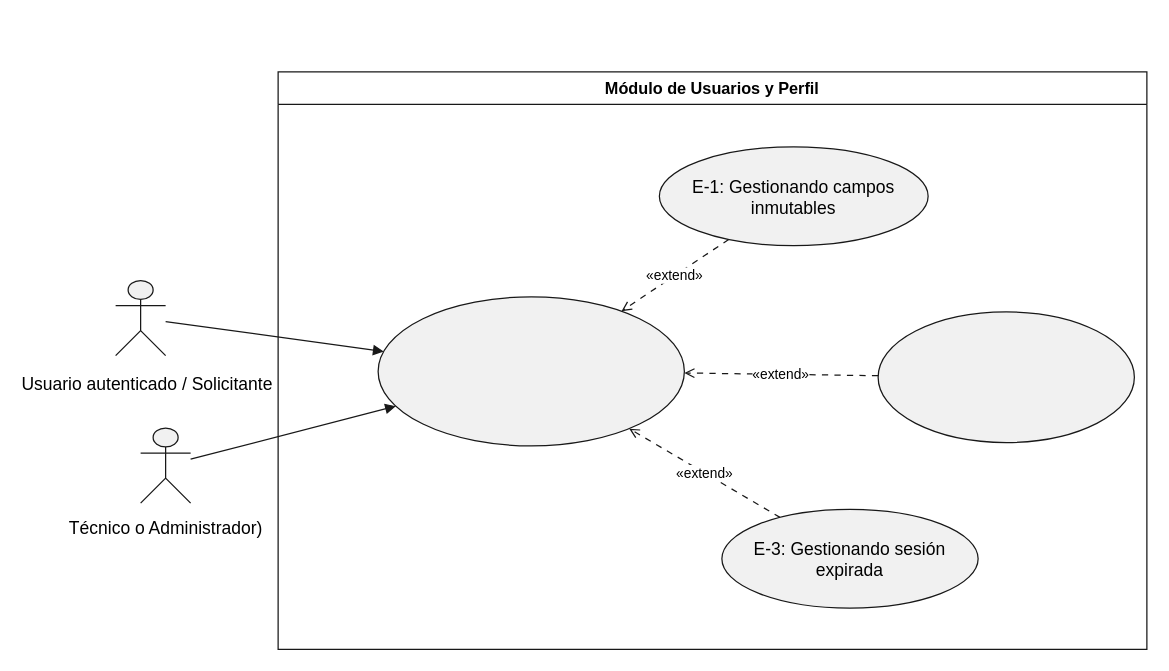
The diagram is 1169 pixels wide and 671 high, and some of its shapes have lost their labels. The shapes that lost their labels are listed below. From the top down, each one's centre as x and y in pixels, then its label:
At (x=530, y=371): "CU-37: Consultando y actualizando datos personales".
At (x=1005, y=376): "E-2: Gestionando formato inválido de correo o teléfono".
